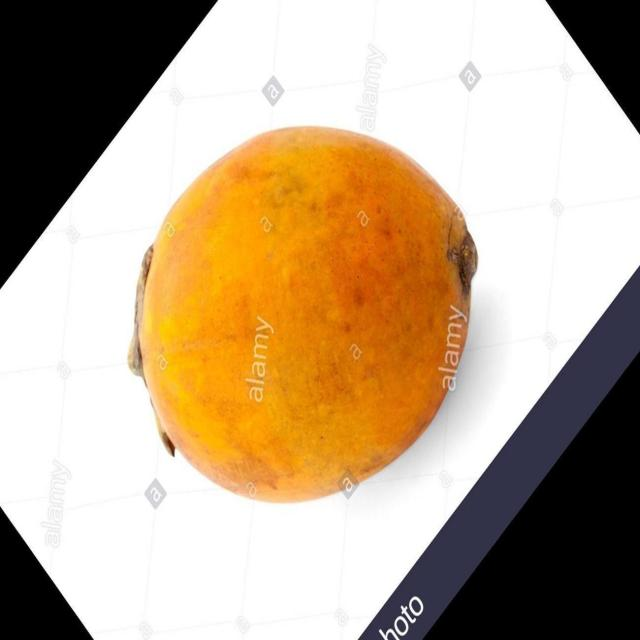good: (136, 125, 478, 505)
